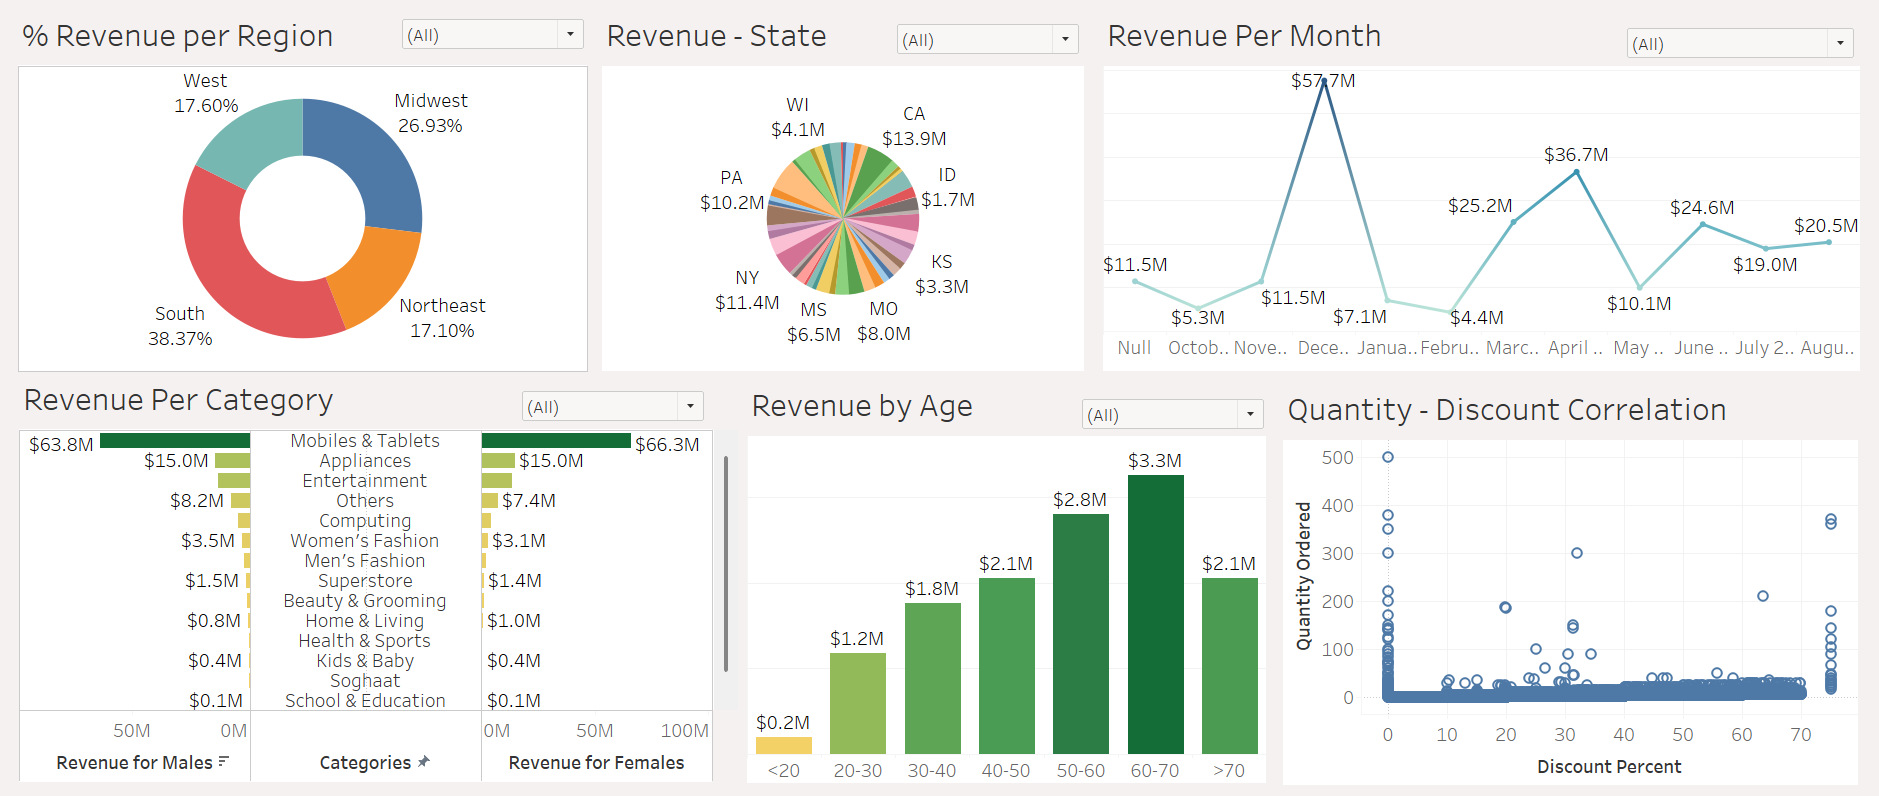

Layout of this report page (visuals, bound fields, positions):
{"tool":"tableau","page":{"name":"My Sales Dashboard","canvas":[1000,1000],"units":"permille","ordinal":0},"visuals":[{"type":"worksheet","title":"% Revenue per Region","mark":"Pie","rows":["Calculation_998954750056755203","Calculation_998954750056755203"],"box":[10.6,13.7,303,450.4]},{"type":"worksheet","title":"Revenue Per State","mark":"Pie","box":[321.1,13.7,256.2,449.1]},{"type":"worksheet","title":"Revenue Per Month","mark":"Automatic","rows":["total"],"cols":["month"],"box":[587.3,13.7,402.1,449.1]},{"type":"filter","title":"Revenue by Age","param":"[federated.17vzoqb0uy6kks19izl8n02ihrt0].[none:Age (bin):ok]","box":[576.5,452.9,99.4,83.1]},{"type":"filter","title":"Revenue Per Category","param":"[federated.17vzoqb0uy6kks19izl8n02ihrt0].[none:category:nk]","box":[294.4,457.8,99.9,75.7]},{"type":"worksheet","title":"Quantity Vs Discount Correlation","mark":"Automatic","rows":["qty_ordered"],"cols":["Discount_Percent"],"box":[682.8,470.2,305.5,503.7]},{"type":"worksheet","title":"Revenue by Age","mark":"Automatic","rows":["age"],"cols":["Age (bin)"],"box":[397.8,472.7,276.2,501.2]},{"type":"worksheet","title":"Revenue Per Category","mark":"Automatic","rows":["category"],"cols":["Calculation_998954750002372609","Calculation_998954750003204098","Calculation_998954750001659904"],"box":[11.2,473.9,382,498.8]}]}

Visuals, with their boxes on the dashboard's canvas, which has no fixed pixel size, in thousandths of its width and height (x1, y1, x2, y2). These are canvas units, not pixel positions in the 1879x796 screenshot, which may show the page scaled, cropped or inside an application window:
"% Revenue per Region" worksheet (Pie marks): detection(11, 14, 314, 464)
"Revenue Per State" worksheet (Pie marks): detection(321, 14, 577, 463)
"Revenue Per Month" worksheet: detection(587, 14, 989, 463)
"Revenue by Age" filter: detection(576, 453, 676, 536)
"Revenue Per Category" filter: detection(294, 458, 394, 534)
"Quantity Vs Discount Correlation" worksheet: detection(683, 470, 988, 974)
"Revenue by Age" worksheet: detection(398, 473, 674, 974)
"Revenue Per Category" worksheet: detection(11, 474, 393, 973)
